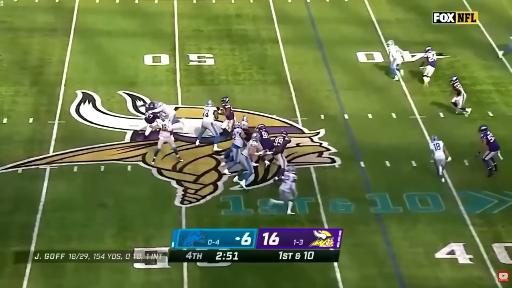Helmet: (147, 102, 159, 111), (251, 133, 259, 142), (159, 112, 169, 119), (479, 125, 488, 132), (450, 76, 458, 83), (222, 97, 229, 105), (257, 124, 266, 130), (286, 166, 295, 172), (234, 122, 241, 128), (387, 40, 394, 46), (206, 100, 213, 106), (242, 122, 248, 129), (426, 47, 432, 52), (282, 131, 288, 136), (432, 136, 437, 141)
Jersey: (151, 103, 175, 120), (481, 131, 500, 151), (280, 172, 297, 192), (258, 130, 274, 151), (156, 119, 172, 138), (274, 135, 290, 154), (430, 140, 446, 159), (242, 140, 258, 156), (389, 45, 403, 63), (233, 128, 245, 147), (203, 107, 217, 122), (452, 81, 465, 96), (425, 51, 436, 67), (223, 105, 234, 120), (143, 112, 157, 123)
Player: (234, 134, 260, 189), (152, 119, 183, 163), (270, 166, 297, 214), (196, 100, 221, 151), (222, 122, 245, 174), (479, 125, 500, 177), (430, 136, 451, 181), (273, 131, 290, 179), (450, 76, 471, 114), (387, 40, 403, 80), (256, 124, 274, 155), (422, 47, 436, 86), (256, 124, 274, 153), (221, 97, 235, 132), (144, 102, 157, 138), (153, 103, 174, 119), (241, 116, 253, 143), (241, 116, 253, 141), (499, 37, 511, 57)
